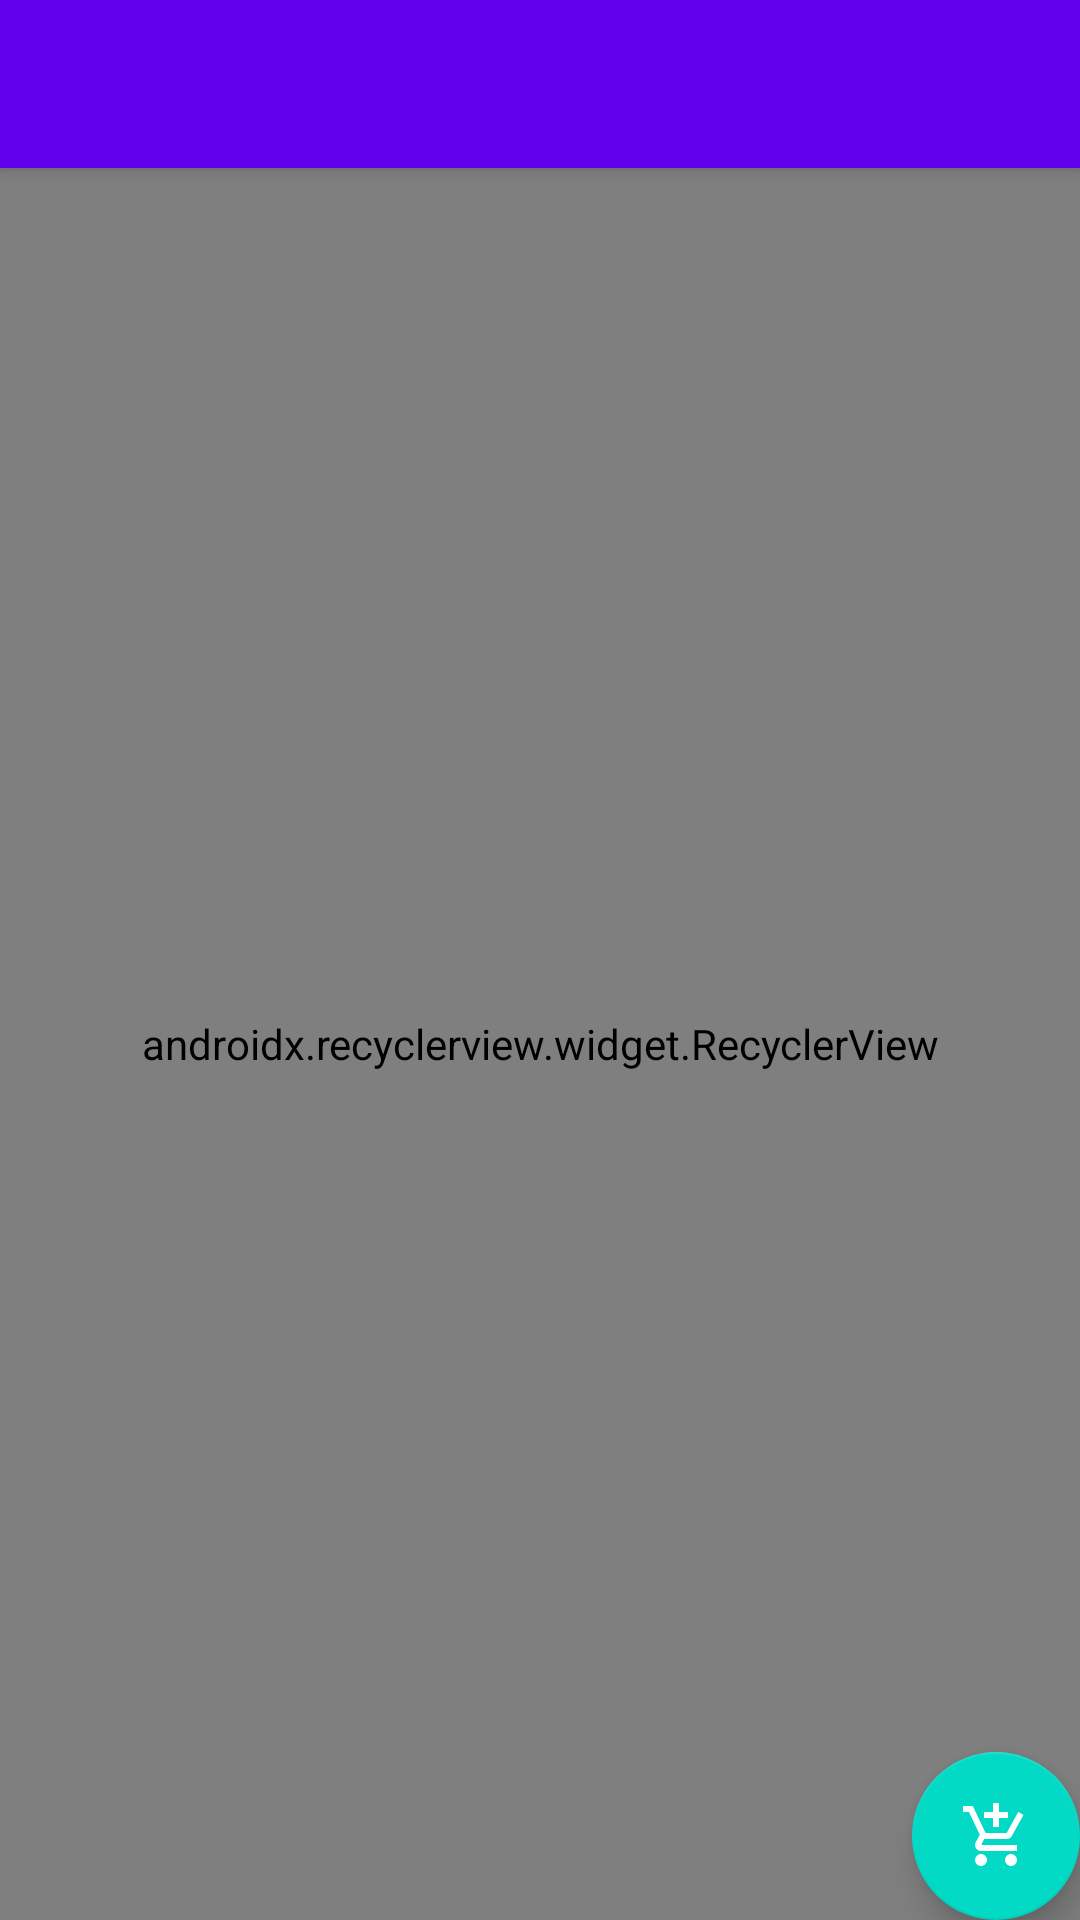

Where to tap for icons on this 1080px x 1920px app screen, as (x=x, y=y):
add shopping cart: (x=996, y=1836)
